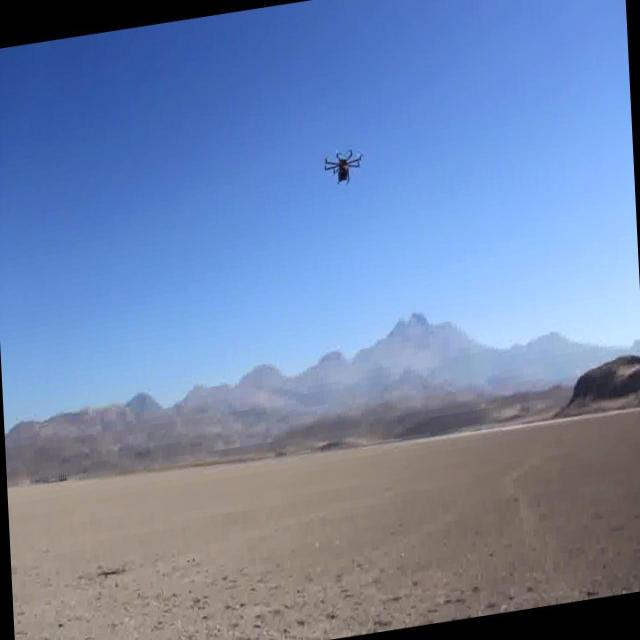drone: (321, 137, 366, 195)
